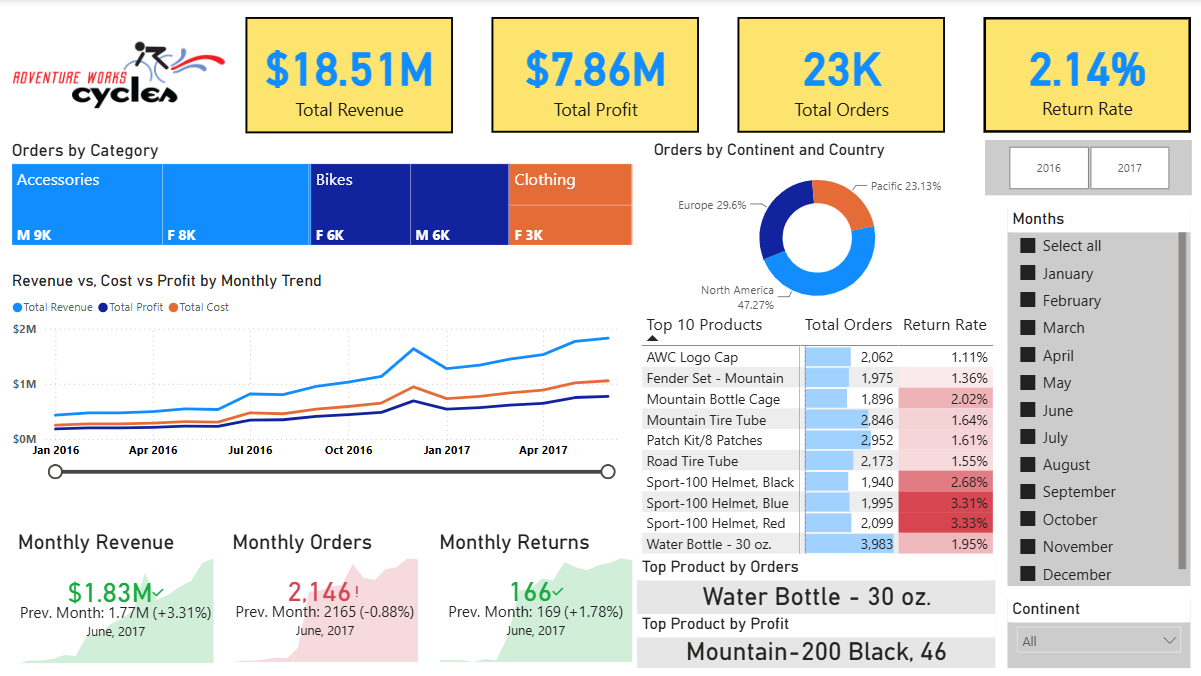

This screenshot's page, from the dashboard's own definition file:
{"tool":"powerbi","page":{"name":"Executive Summary","canvas":[1280,720],"ordinal":12},"visuals":[{"type":"group","id":"g1","title":"Group 1","box":[261.9,19.3,1003.3,123.3],"z":0},{"type":"kpi","title":"Monthly Revenue","fields":{"Indicator":["Sales Data.Total Revenue"],"TrendLine":["Calendar_lookup.Start of Month"],"Goal":["Sales Data.Previous. Month Revenue"]},"box":[15.9,563.1,217.9,146.3],"z":1000},{"type":"card","title":"Card: Revenue","fields":{"Values":["Sales Data.Total Revenue"]},"box":[261.9,19.3,219.8,123.3],"z":2000,"group":"g1"},{"type":"kpi","title":"Monthly Returns","fields":{"TrendLine":["Calendar_lookup.Start of Month"],"Indicator":["Returns Data.Total Returns"],"Goal":["Returns Data.Prev Month Returns"]},"box":[462.9,563.1,214.7,144.7],"z":2000},{"type":"card","title":"Card: Profit","fields":{"Values":["Sales Data.Total Profit"]},"box":[522.8,19.3,220.3,122.8],"z":2250,"group":"g1"},{"type":"card","title":"Card: Orders","fields":{"Values":["Sales Data.Total Orders"]},"box":[783.7,19.3,220.3,122.8],"z":2500,"group":"g1"},{"type":"card","title":"Card: Return Rate","fields":{"Values":["Returns Data.Return Rate"]},"box":[1044.6,19.3,220.3,122.8],"z":3000,"group":"g1"},{"type":"kpi","title":"Monthly Orders","fields":{"TrendLine":["Calendar_lookup.Start of Month"],"Indicator":["Sales Data.Total Orders"],"Goal":["Sales Data.Prev Month Orders"]},"box":[243.4,563.1,206.8,144.7],"z":3000},{"type":"image","box":[15.9,19.1,227.5,122.5],"z":4000},{"type":"treemap","title":"Orders by Category","fields":{"Values":["Sales Data.Total Orders"],"Group":["Product_Categories_lookup.CategoryName"],"Details":["Customers_lookup.Gender"]},"box":[9.5,149.5,668.1,116.1],"z":5000},{"type":"lineChart","title":"Revenue vs, Cost vs Profit by Monthly Trend","fields":{"Y":["Sales Data.Total Revenue","Sales Data.Total Profit","Sales Data.Total Cost"],"Category":["Calendar_lookup.Start of Month.Variation.Date Hierarchy.Year","Calendar_lookup.Start of Month.Variation.Date Hierarchy.Quarter","Calendar_lookup.Start of Month.Variation.Date Hierarchy.Month","Calendar_lookup.Start of Month.Variation.Date Hierarchy.Day"]},"box":[9.5,287.9,668.1,224.3],"z":7000},{"type":"pivotTable","fields":{"Values":["Sales Data.Total Orders","Returns Data.Return Rate"],"Rows":["Product_Categories_lookup.CategoryName","Product_Subcategories_lookup.SubcategoryName","Products_lookup.ProductName"]},"box":[677.6,326.1,392.9,273.6],"z":8000},{"type":"donutChart","title":"Orders by Continent and Country","fields":{"Y":["Sales Data.Total Orders"],"Category":["Territories_lookup.Continent"]},"box":[690.3,149.5,356.3,187.7],"z":9000},{"type":"card","title":"Top Product by Orders","fields":{"Values":["Min(Products_lookup.ProductName)"]},"box":[677.6,591.7,380.2,60.4],"z":10000},{"type":"card","title":"Top Product by Profit","fields":{"Values":["Min(Products_lookup.ProductName)"]},"box":[677.6,652.2,380.2,57.3],"z":11000},{"type":"slicer","fields":{"Values":["Calendar_lookup.Year"]},"box":[1046.6,149.5,219.5,58.9],"z":12000},{"type":"slicer","title":"Months","fields":{"Values":["Calendar_lookup.Month Name"]},"box":[1070.5,222.7,194.1,399.2],"z":13000},{"type":"slicer","title":"Continent","fields":{"Values":["Territories_lookup.Continent"]},"box":[1070.5,636.2,194.1,73.2],"z":14000}]}

Visuals, with their boxes in screenshot pixels (x1, y1, x2, y2), scaled from the page's 1280x720 canvas onto the 1201x676 screenshot:
"Group 1" group: x1=246 y1=18 x2=1187 y2=134
"Monthly Revenue" kpi: x1=15 y1=529 x2=219 y2=666
"Card: Revenue" card: x1=246 y1=18 x2=452 y2=134
"Monthly Returns" kpi: x1=434 y1=529 x2=636 y2=665
"Card: Profit" card: x1=491 y1=18 x2=697 y2=133
"Card: Orders" card: x1=735 y1=18 x2=942 y2=133
"Card: Return Rate" card: x1=980 y1=18 x2=1187 y2=133
"Monthly Orders" kpi: x1=228 y1=529 x2=422 y2=665
image: x1=15 y1=18 x2=228 y2=133
"Orders by Category" treemap: x1=9 y1=140 x2=636 y2=249
"Revenue vs, Cost vs Profit by Monthly Trend" lineChart: x1=9 y1=270 x2=636 y2=481
pivotTable - Sales Data.Total Orders x Returns Data.Return Rate: x1=636 y1=306 x2=1004 y2=563
"Orders by Continent and Country" donutChart: x1=648 y1=140 x2=982 y2=317
"Top Product by Orders" card: x1=636 y1=556 x2=993 y2=612
"Top Product by Profit" card: x1=636 y1=612 x2=993 y2=666
slicer - Calendar_lookup.Year: x1=982 y1=140 x2=1188 y2=196
"Months" slicer: x1=1004 y1=209 x2=1187 y2=584
"Continent" slicer: x1=1004 y1=597 x2=1187 y2=666
